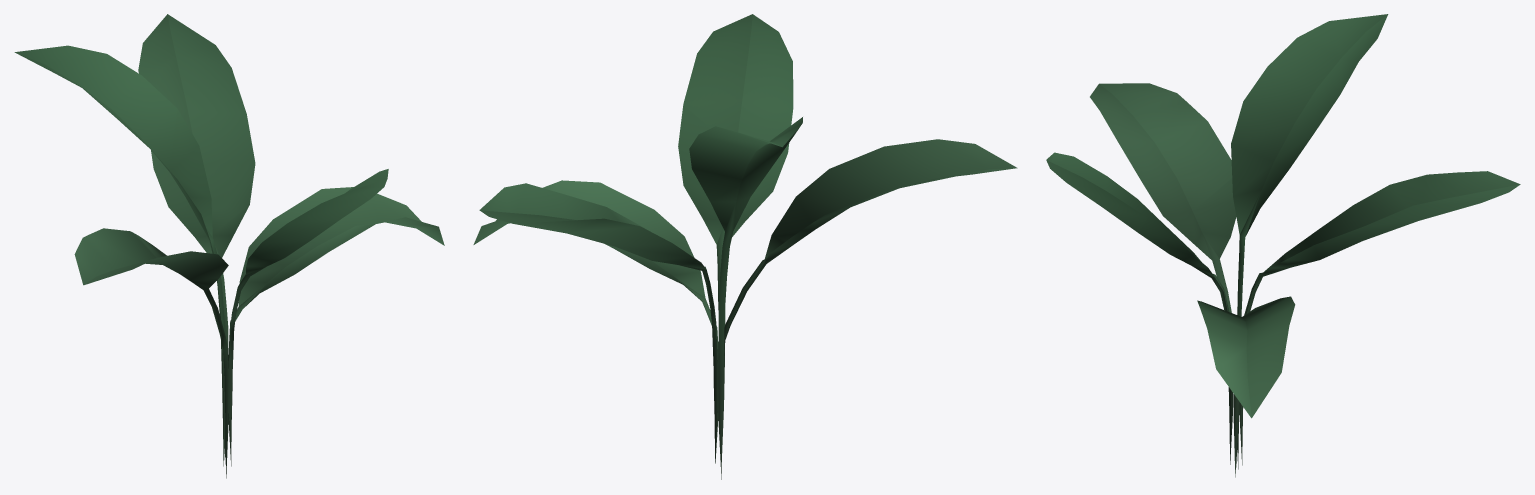
Rendered from plants-leafy-plants-broadleaf-plant_v9.glb.
3 views of the same model, side by side, from view 1: azimuth 30°, elevation 25°; view 2: azimuth 150°, elevation 25°; view 3: azimuth 270°, elevation 25° (orthographic). The views are drawn at different scales.
Visible parts, largest first — view 1: Broadleaf Plant_v9; view 2: Broadleaf Plant_v9; view 3: Broadleaf Plant_v9.
Part boxes in pixels (left/top/right/bottom): Broadleaf Plant_v9: left=14, top=14, right=444, bottom=478; Broadleaf Plant_v9: left=473, top=14, right=1017, bottom=479; Broadleaf Plant_v9: left=1046, top=14, right=1520, bottom=477.
Bounding box in the file's own units: 0.6 × 0.5298 × 0.5674.
